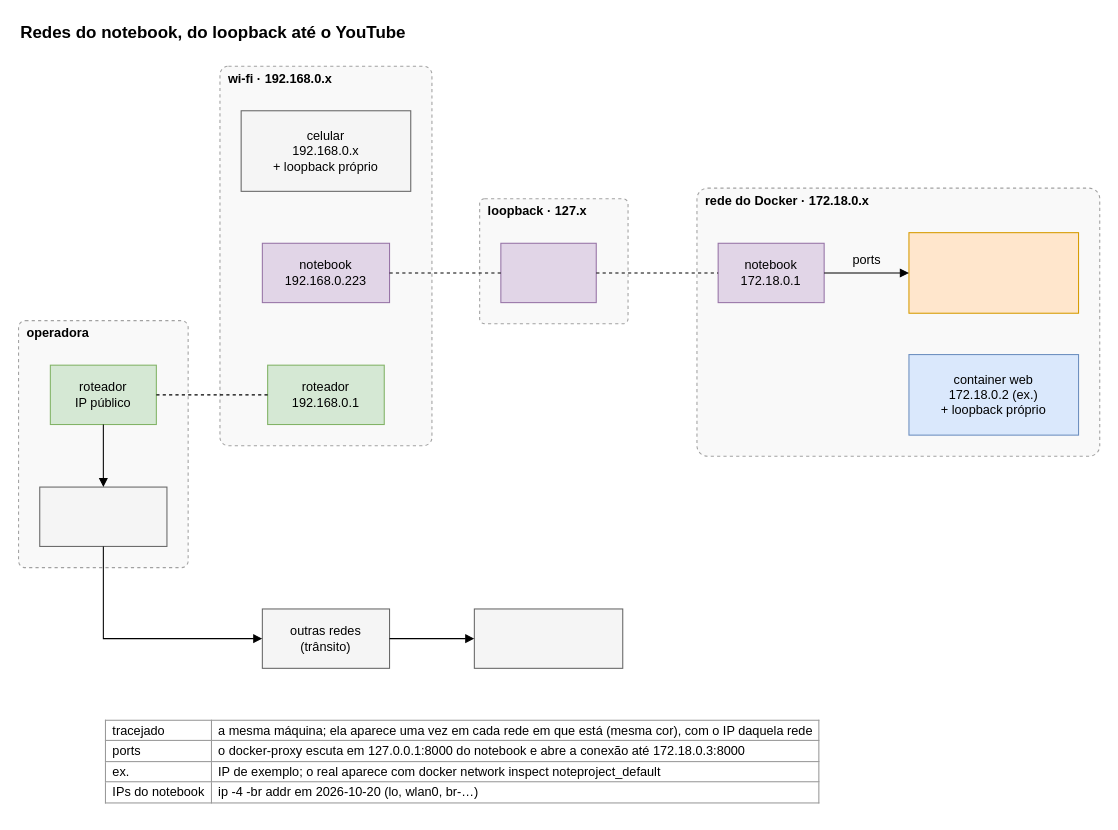
The diagram is 1118 pixels wide and 830 high, and some of its shapes have lost their labels. The centre of each missing label's shape, as x and y in pixels:
"container notes 172.18.0.3 (ex.) + loopback próprio" belongs at (993,272).
"notebook 127.0.0.1" belongs at (548,272).
"roteadores da operadora" belongs at (103,516).
"YouTube (rede do Google)" belongs at (548,638).
